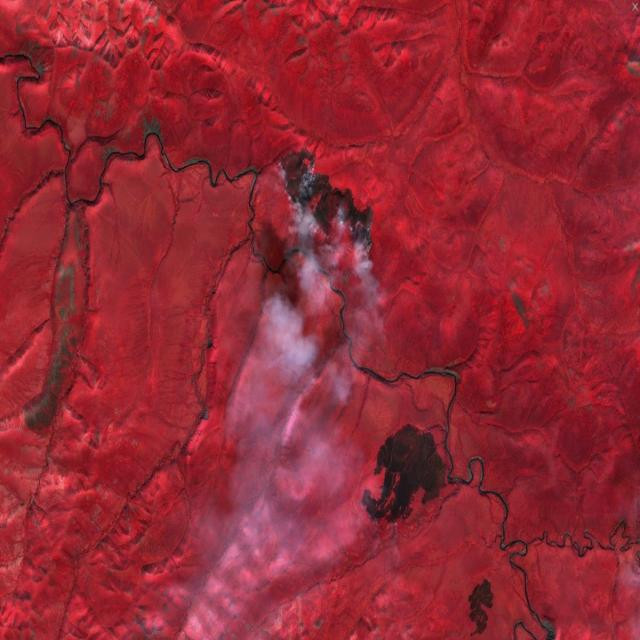fire: (276, 147, 382, 261)
